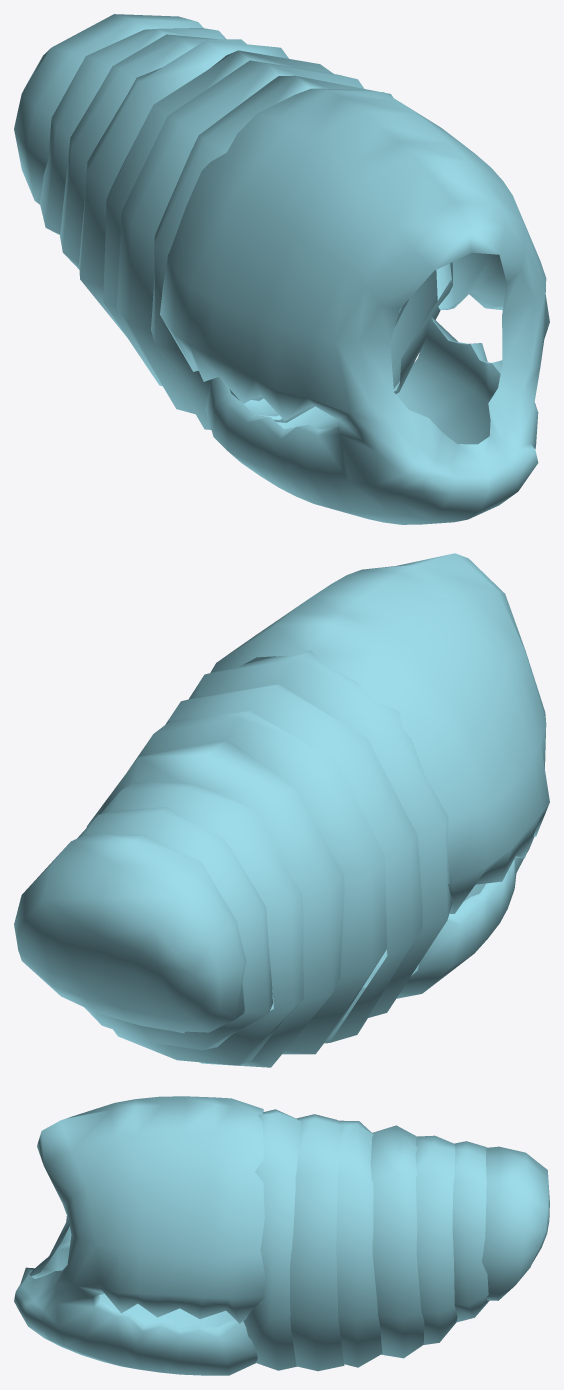
File: Shrimp_Body_Anomalis.fbx
The picture shows the model from 3 angles, top to bottom: view 1: azimuth 30°, elevation 25°; view 2: azimuth 150°, elevation 25°; view 3: azimuth 270°, elevation 25°; orthographic projection. The views are drawn at different scales.
Visible parts, largest first — view 1: back_low, back_2_low, back_1_low, back_4_low, back_7_low, back_5_low, back_3_low, back_6_low; view 2: back_low, back_7_low, back_3_low, back_4_low, back_1_low, back_2_low, back_5_low, back_6_low; view 3: back_low, back_2_low, back_4_low, back_3_low, back_1_low, back_7_low, back_5_low, back_6_low.
Part boxes in pixels (box(x1,y1,x2,y2)): back_low: box(160, 88, 549, 524); back_2_low: box(117, 60, 408, 422); back_1_low: box(151, 75, 452, 429); back_4_low: box(79, 40, 288, 336); back_7_low: box(14, 14, 203, 204); back_5_low: box(60, 34, 246, 269); back_3_low: box(103, 50, 333, 400); back_6_low: box(40, 28, 226, 234); back_low: box(210, 553, 549, 998); back_7_low: box(14, 834, 246, 1033); back_3_low: box(129, 711, 386, 1054); back_4_low: box(86, 740, 344, 1067); back_1_low: box(189, 650, 452, 1021); back_2_low: box(165, 684, 422, 1043); back_5_low: box(100, 781, 303, 1065); back_6_low: box(77, 807, 272, 1050); back_low: box(14, 1096, 265, 1375); back_2_low: box(290, 1114, 344, 1371); back_4_low: box(370, 1125, 424, 1358); back_3_low: box(336, 1120, 382, 1367); back_1_low: box(243, 1109, 301, 1370); back_7_low: box(481, 1146, 549, 1300); back_5_low: box(415, 1135, 457, 1344); back_6_low: box(452, 1141, 489, 1322).
Bounding box in the file's own units: 43.28 × 80.93 × 38.39.
